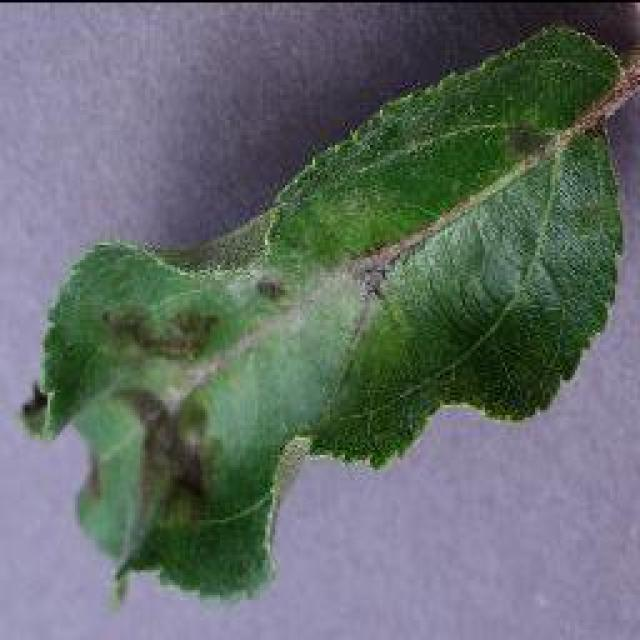apple scab disease: (18, 17, 638, 605)
